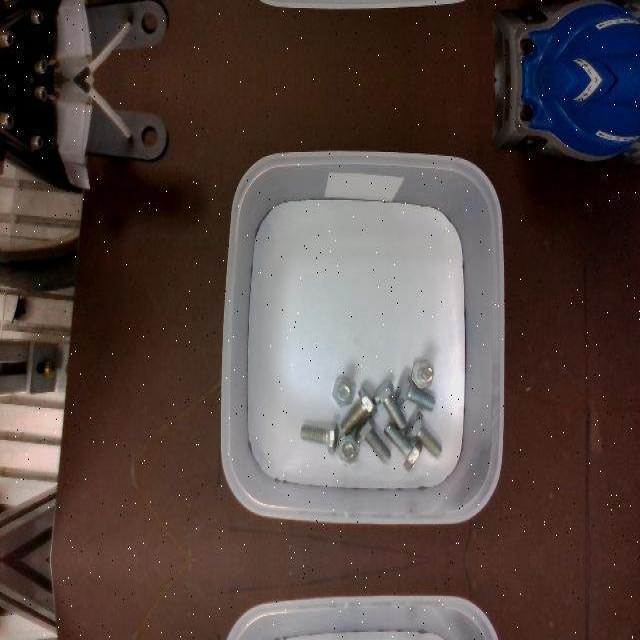screw: (383, 423, 423, 471), (372, 377, 408, 427), (339, 387, 377, 433), (404, 410, 442, 456), (355, 415, 392, 461), (396, 375, 437, 409), (300, 421, 338, 455), (336, 435, 360, 465), (412, 359, 435, 389), (333, 375, 355, 405)
